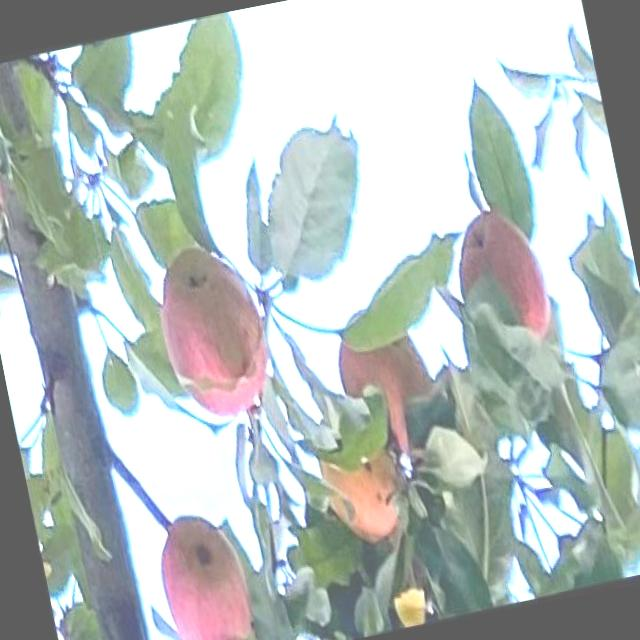Apple: (150, 243, 281, 426), (328, 300, 446, 465), (447, 204, 557, 354), (152, 508, 260, 640)
Mango: (316, 429, 412, 549)
